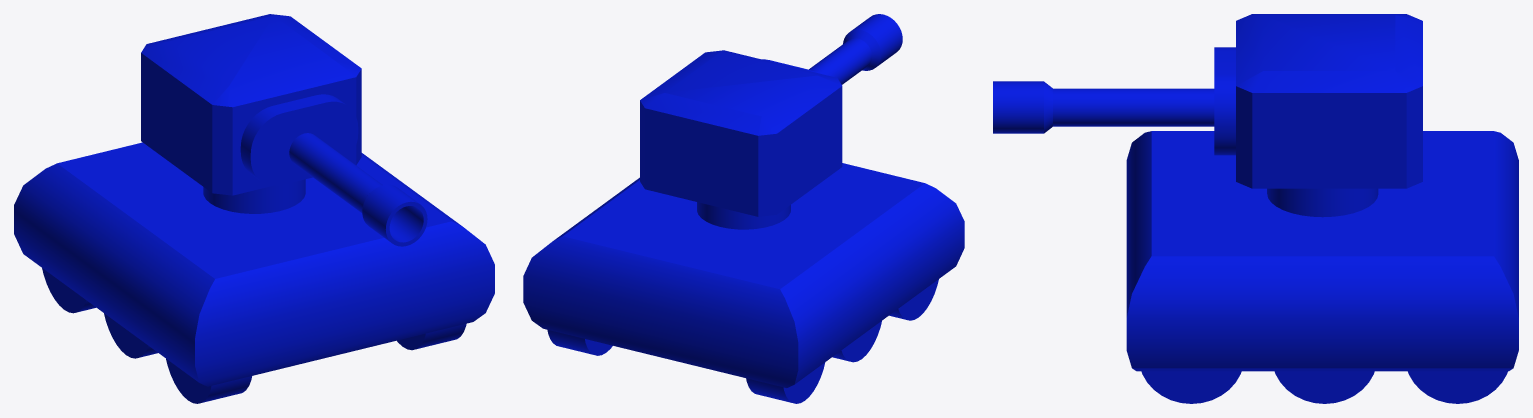
Rendered from Player1Tank.fbx.
3 views of the same model, side by side, from view 1: azimuth 30°, elevation 25°; view 2: azimuth 150°, elevation 25°; view 3: azimuth 270°, elevation 25° (orthographic). The views are drawn at different scales.
Visible parts, largest first — view 1: Tank(Player); view 2: Tank(Player); view 3: Tank(Player).
Boxes of the visible parts, box(x1,y1,x2,y2) form: Tank(Player): box(14, 14, 494, 403); Tank(Player): box(523, 14, 964, 403); Tank(Player): box(993, 14, 1518, 403).
Size of the model in its own units: 879 by 758 by 1233.
